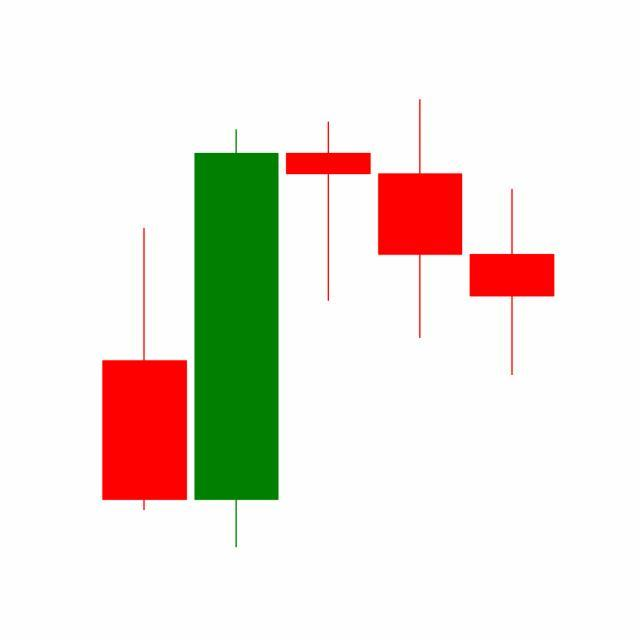Spinning Top: (466, 187, 559, 378)
